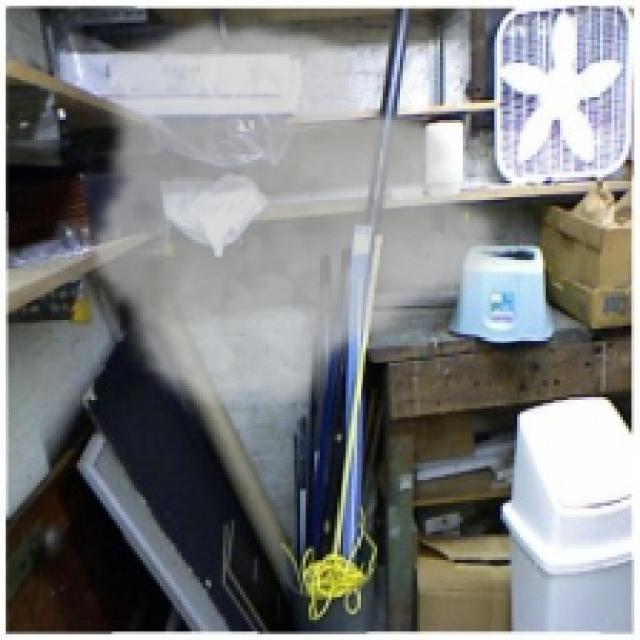Smoke: (86, 14, 512, 420)
